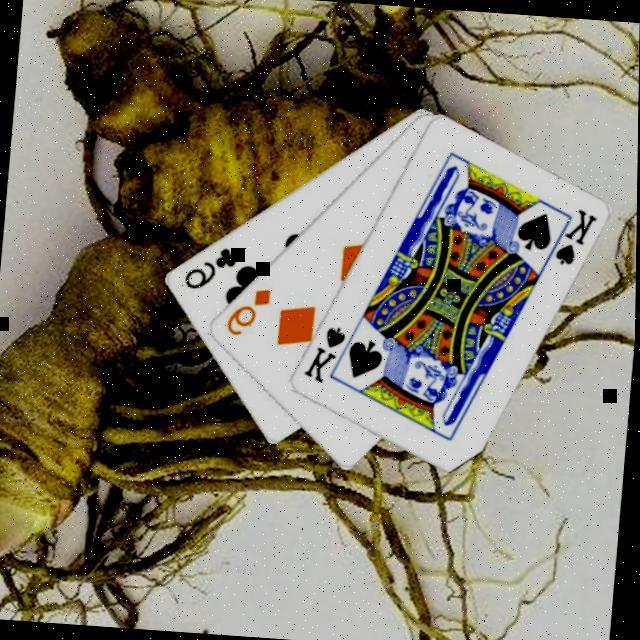6D: (220, 283, 273, 341)
9C: (178, 242, 238, 296)
KS: (540, 204, 598, 271), (298, 322, 348, 388)
